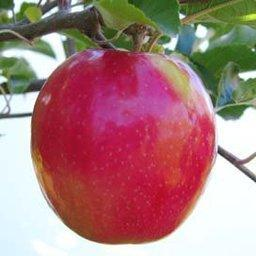apple: (30, 50, 217, 245)
